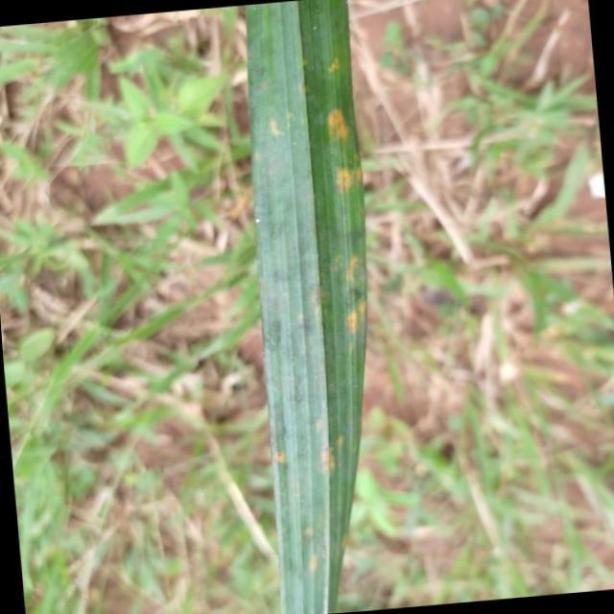Kalium: (243, 0, 372, 604)
